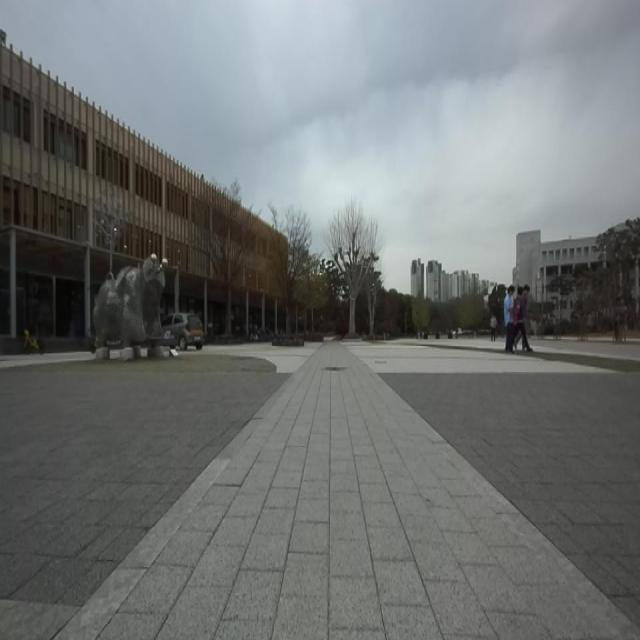sidewalk: (55, 345, 640, 639)
